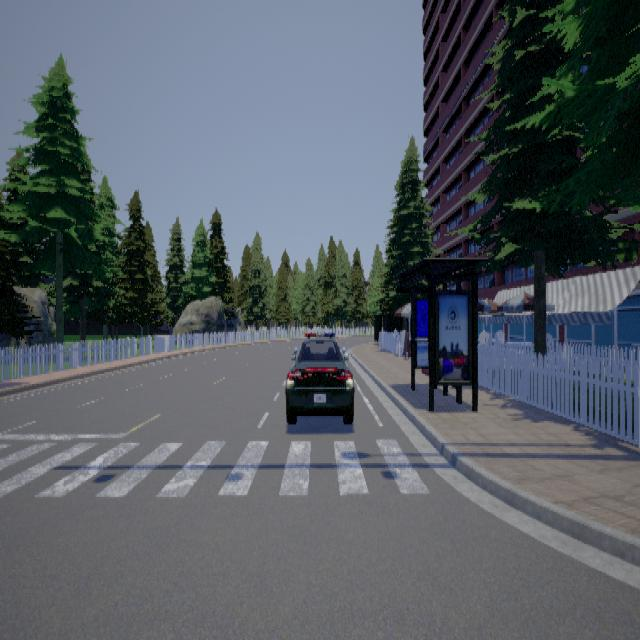vehicle: (284, 332, 354, 423)
